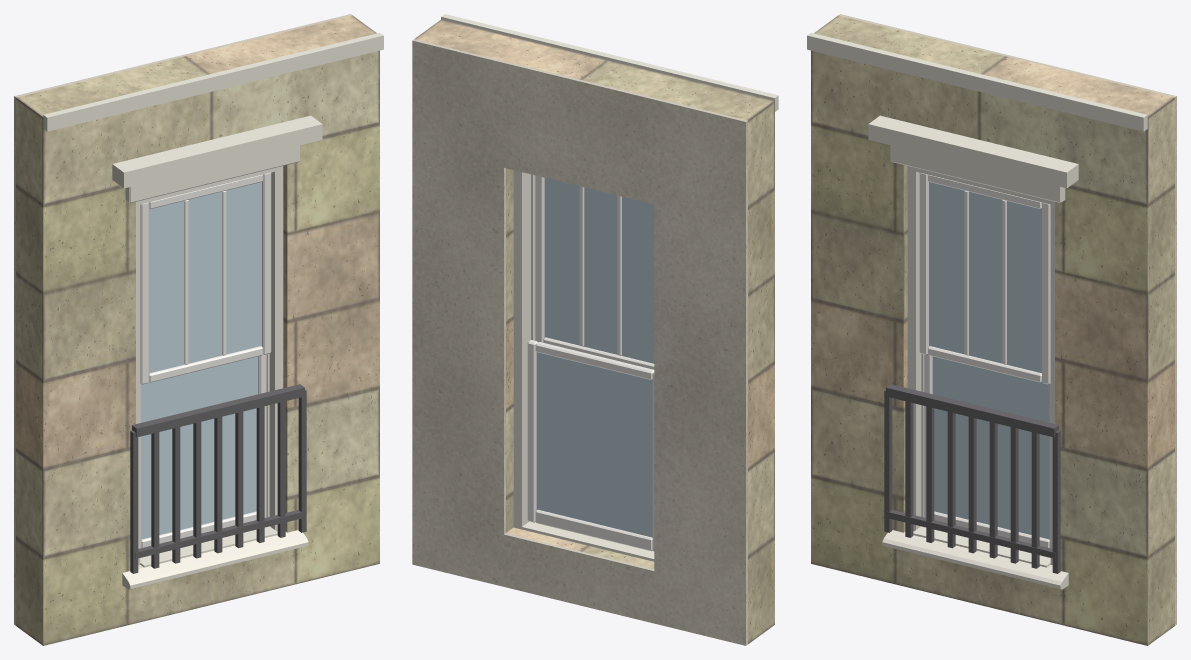
The model's file is wall_ashlar_balconette.glb.
3 views of the same model, side by side, from view 1: azimuth 30°, elevation 25°; view 2: azimuth 150°, elevation 25°; view 3: azimuth 330°, elevation 25° (orthographic).
Parts seen in each view (by area): view 1: wall_ashlar_balconette_ashlar, wall_ashlar_balconette_glass, wall_ashlar_balconette_trim, wall_ashlar_balconette_iron, wall_ashlar_balconette_sash, wall_ashlar_balconette_frame, wall_ashlar_balconette_plaster; view 2: wall_ashlar_balconette_plaster, wall_ashlar_balconette_glass, wall_ashlar_balconette_ashlar, wall_ashlar_balconette_sash, wall_ashlar_balconette_frame, wall_ashlar_balconette_trim; view 3: wall_ashlar_balconette_ashlar, wall_ashlar_balconette_glass, wall_ashlar_balconette_trim, wall_ashlar_balconette_iron, wall_ashlar_balconette_sash, wall_ashlar_balconette_frame, wall_ashlar_balconette_plaster.
Part boxes in pixels (x1,y1,x2,y2): wall_ashlar_balconette_ashlar: [16, 15, 379, 645]; wall_ashlar_balconette_glass: [141, 182, 261, 539]; wall_ashlar_balconette_trim: [43, 32, 383, 589]; wall_ashlar_balconette_iron: [130, 384, 306, 573]; wall_ashlar_balconette_sash: [140, 172, 271, 548]; wall_ashlar_balconette_frame: [136, 166, 283, 564]; wall_ashlar_balconette_plaster: [14, 14, 352, 625]; wall_ashlar_balconette_plaster: [412, 39, 747, 645]; wall_ashlar_balconette_glass: [536, 178, 654, 537]; wall_ashlar_balconette_ashlar: [414, 19, 774, 644]; wall_ashlar_balconette_sash: [527, 175, 654, 551]; wall_ashlar_balconette_frame: [513, 170, 535, 529]; wall_ashlar_balconette_trim: [441, 14, 778, 561]; wall_ashlar_balconette_ashlar: [811, 15, 1174, 645]; wall_ashlar_balconette_glass: [929, 182, 1049, 539]; wall_ashlar_balconette_trim: [807, 32, 1147, 589]; wall_ashlar_balconette_iron: [884, 384, 1060, 573]; wall_ashlar_balconette_sash: [919, 172, 1050, 548]; wall_ashlar_balconette_frame: [907, 166, 1054, 564]; wall_ashlar_balconette_plaster: [838, 14, 1176, 625].
Bounding box in the file's own units: 2 × 3.02 × 0.42.
7 materials, 2 textured.
